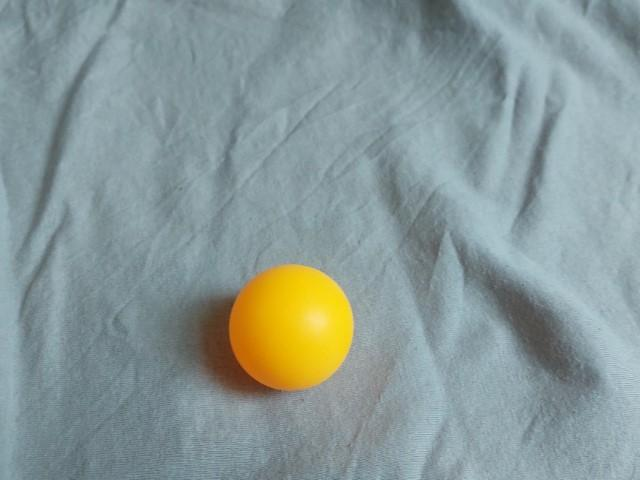oball: (219, 257, 364, 400)
